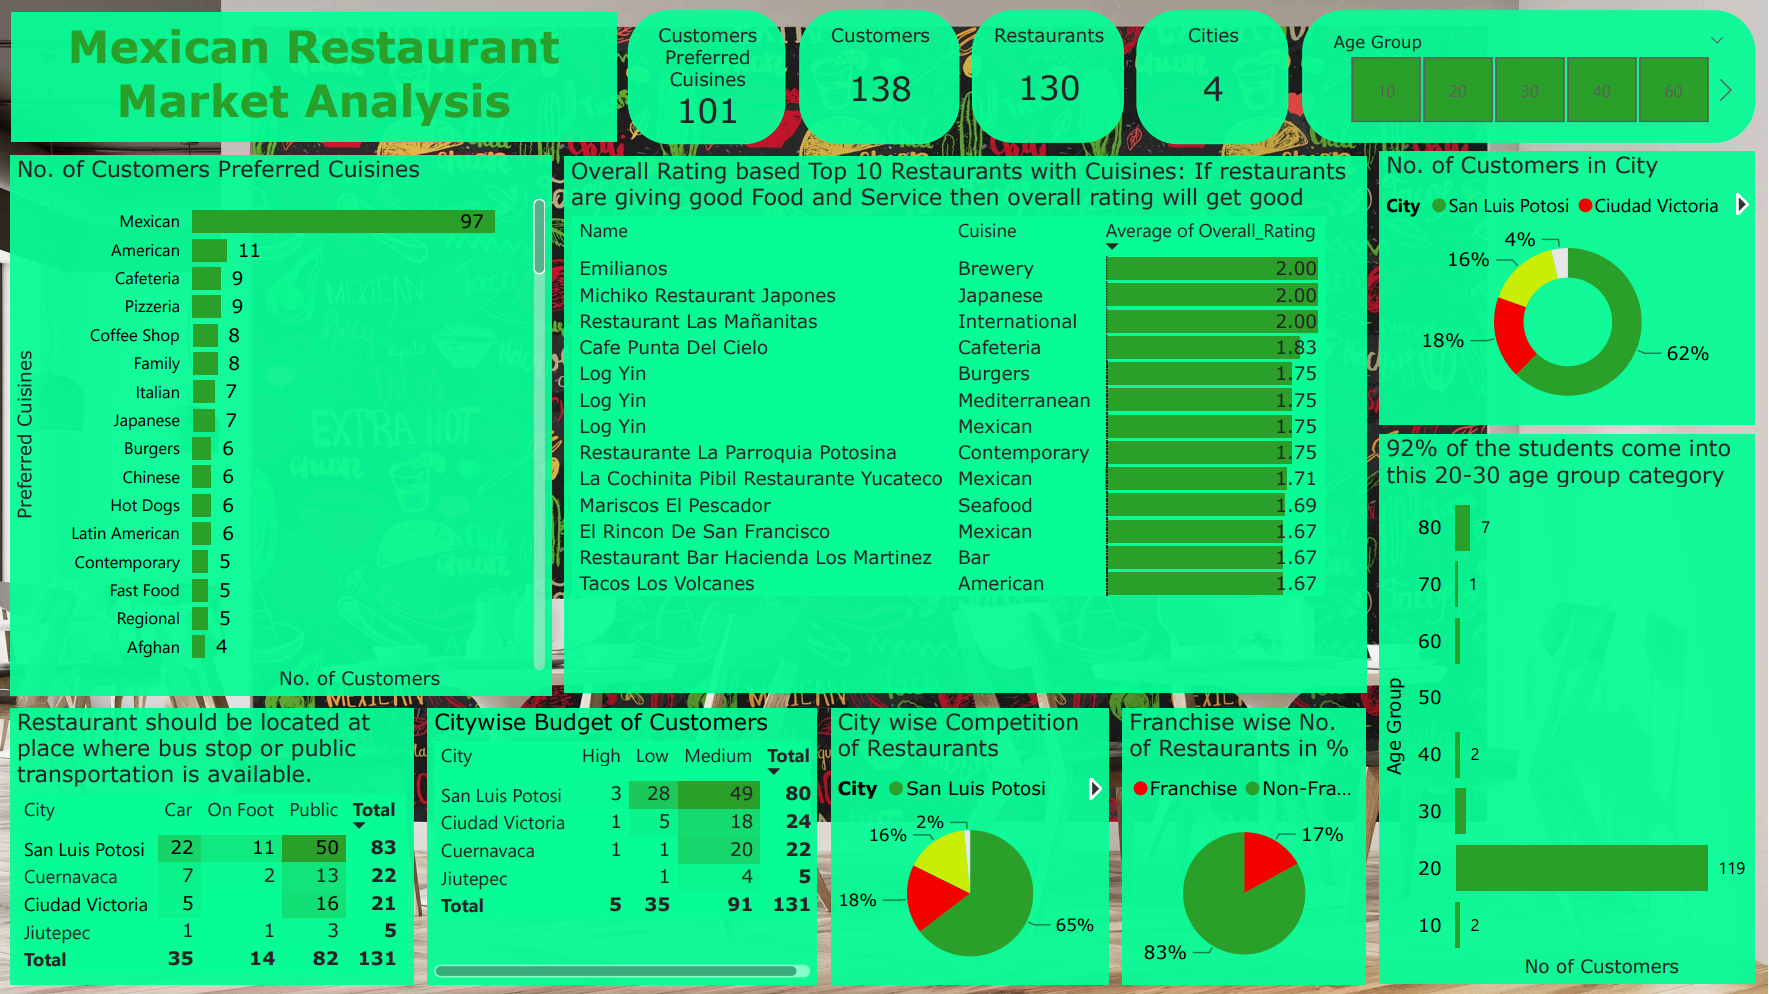

What the dashboard file says about the page in this screenshot:
{"tool":"powerbi","page":{"name":"More customers in city","canvas":[1280,720],"ordinal":0},"visuals":[{"type":"donutChart","title":"No. of Customers in City","fields":{"Category":["consumers.City"],"Y":["Count(consumers.Consumer_ID)"]},"box":[998.6,110.4,272.6,197.8],"z":0},{"type":"pivotTable","title":"Citywise Budget of Customers","fields":{"Rows":["consumers.City"],"Columns":["consumers.Budget"],"Values":["Count(consumers.Consumer_ID)"]},"box":[309.9,512.6,282.2,200.2],"z":1000},{"type":"pivotTable","title":"Restaurant should be located at place where bus stop or public transportation is available. ","fields":{"Rows":["consumers.City"],"Columns":["consumers.Transportation_Method"],"Values":["Count(consumers.Consumer_ID)"]},"box":[8.4,512.6,291.9,200.2],"z":2000},{"type":"clusteredBarChart","title":"No. of Customers Preferred Cuisines","fields":{"Category":["consumer_preferences.Preferred_Cuisine"],"Y":["Count(consumer_preferences.Consumer_ID)"]},"box":[8.4,112.9,392,390.8],"z":3000},{"type":"pieChart","title":"Franchise wise No. of Restaurants in % ","fields":{"Y":["Count(restaurants.Restaurant_ID)"],"Series":["restaurants.Franchises"]},"box":[812.9,512.6,176.1,200.2],"z":4000},{"type":"pieChart","title":"City wise Competition of Restaurants","fields":{"Category":["restaurants.City"],"Y":["Count(restaurants.Restaurant_ID)"]},"box":[601.8,512.6,201.4,200.2],"z":5000},{"type":"clusteredBarChart","title":"92% of the students come into this 20-30 age group category","fields":{"Category":["consumers.Age (bins)"],"Y":["Count(consumers.Consumer_ID)"]},"box":[998.6,314.8,272.6,398],"z":6000},{"type":"slicer","fields":{"Values":["consumers.Age (bins)"]},"box":[943.1,8.4,328,95.3],"z":7000},{"type":"textbox","title":"Mexican Restaurant Market Analysis","box":[8.9,8.9,437.8,94.4],"z":8000},{"type":"tableEx","title":"Overall Rating based Top 10 Restaurants with Cuisines: If restaurants  are giving good Food and Service then overall rating will get good","fields":{"Values":["restaurants.Name","restaurant_cuisines.Cuisine","Avg(ratings.Overall_Rating)"]},"box":[408.8,114,581.3,388.3],"z":9000},{"type":"card","title":"Cities","fields":{"Values":["Count(restaurants.City)"]},"box":[822.5,8.4,111,96.5],"z":10000},{"type":"card","title":"Restaurants","fields":{"Values":["Count(restaurants.Restaurant_ID)"]},"box":[704.3,8.4,109.7,95.3],"z":11000},{"type":"card","title":"Customers","fields":{"Values":["Count(consumers.Consumer_ID)"]},"box":[578.9,8.4,115.8,96.5],"z":12000},{"type":"card","title":"Customers Preferred Cuisines","fields":{"Values":["Count(consumer_preferences.Preferred_Cuisine)"]},"box":[454.7,8.4,114.6,96.5],"z":13000}]}

Visuals, with their boxes in screenshot pixels (x1, y1, x2, y2), scaled from the page's 1280x720 canvas onto the 1769x994 screenshot:
"No. of Customers in City" donutChart: bbox=[1380, 152, 1757, 425]
"Citywise Budget of Customers" pivotTable: bbox=[428, 708, 818, 984]
"Restaurant should be located at place where bus stop or public transportation is available. " pivotTable: bbox=[12, 708, 415, 984]
"No. of Customers Preferred Cuisines" clusteredBarChart: bbox=[12, 156, 553, 695]
"Franchise wise No. of Restaurants in % " pieChart: bbox=[1123, 708, 1367, 984]
"City wise Competition of Restaurants" pieChart: bbox=[832, 708, 1110, 984]
"92% of the students come into this 20-30 age group category" clusteredBarChart: bbox=[1380, 435, 1757, 984]
slicer - consumers.Age (bins): bbox=[1303, 12, 1757, 143]
"Mexican Restaurant Market Analysis" textbox: bbox=[12, 12, 617, 143]
"Overall Rating based Top 10 Restaurants with Cuisines: If restaurants  are giving good Food and Service then overall rating will get good" tableEx: bbox=[565, 157, 1368, 693]
"Cities" card: bbox=[1137, 12, 1290, 145]
"Restaurants" card: bbox=[973, 12, 1125, 143]
"Customers" card: bbox=[800, 12, 960, 145]
"Customers Preferred Cuisines" card: bbox=[628, 12, 787, 145]
